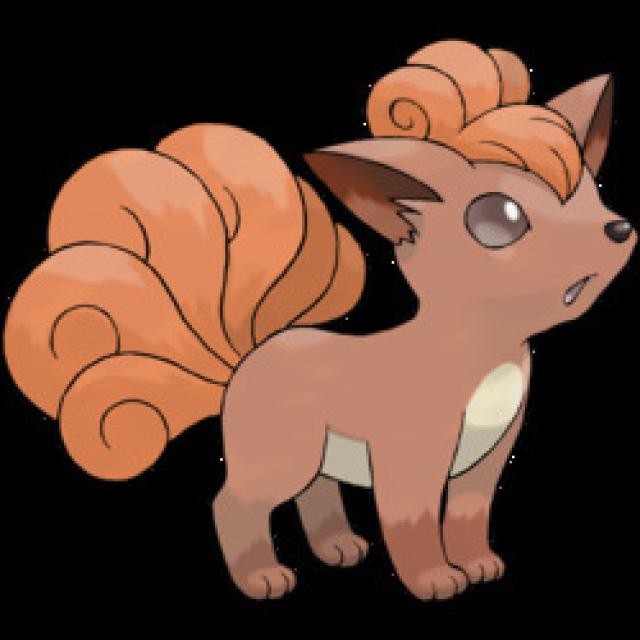Vulpix: (157, 57, 634, 593)
